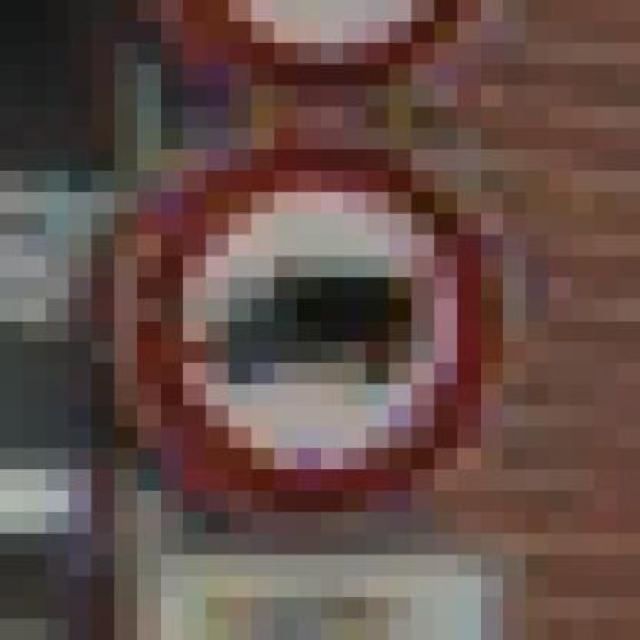Truck traffic is prohibited: (106, 128, 519, 534)
